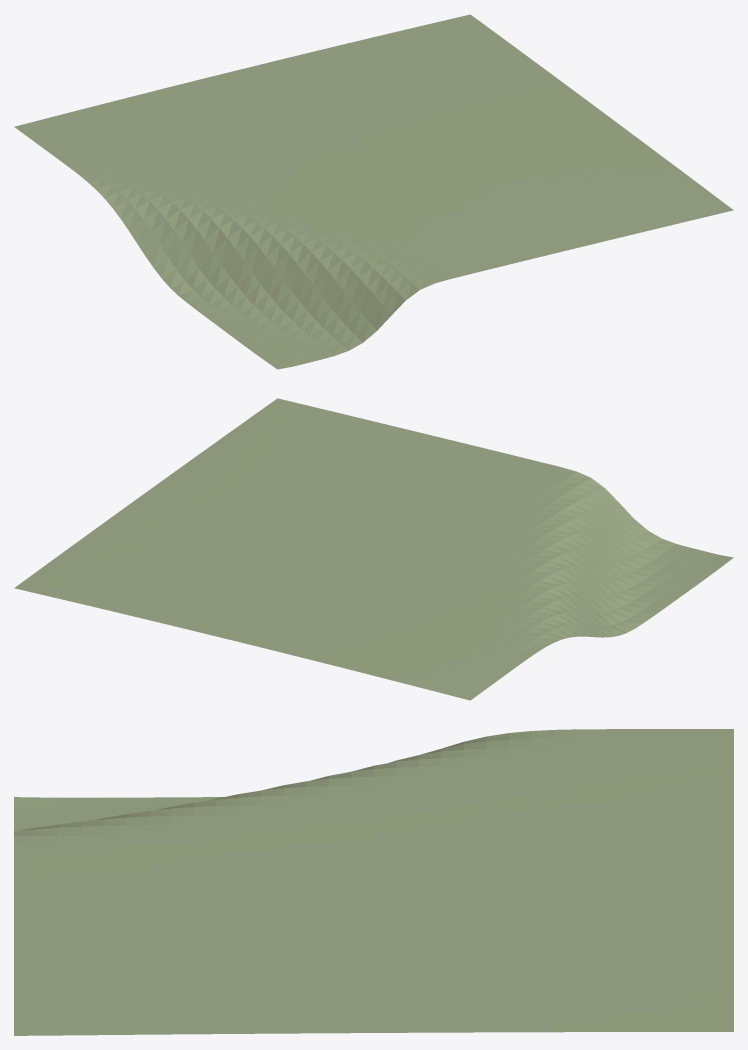
The model's file is lunar-5-0.glb.
3 renders of one model, top to bottom at view 1: azimuth 30°, elevation 25°; view 2: azimuth 150°, elevation 25°; view 3: azimuth 270°, elevation 25°, orthographic. The views are drawn at different scales.
Visible parts, largest first — view 1: lunar-5-0; view 2: lunar-5-0; view 3: lunar-5-0.
Part boxes in pixels (left/top/right/bottom): lunar-5-0: left=14, top=14, right=733, bottom=369; lunar-5-0: left=14, top=398, right=733, bottom=700; lunar-5-0: left=14, top=729, right=733, bottom=1035.
Size of the model in its own units: 128 by 14.16 by 128.
